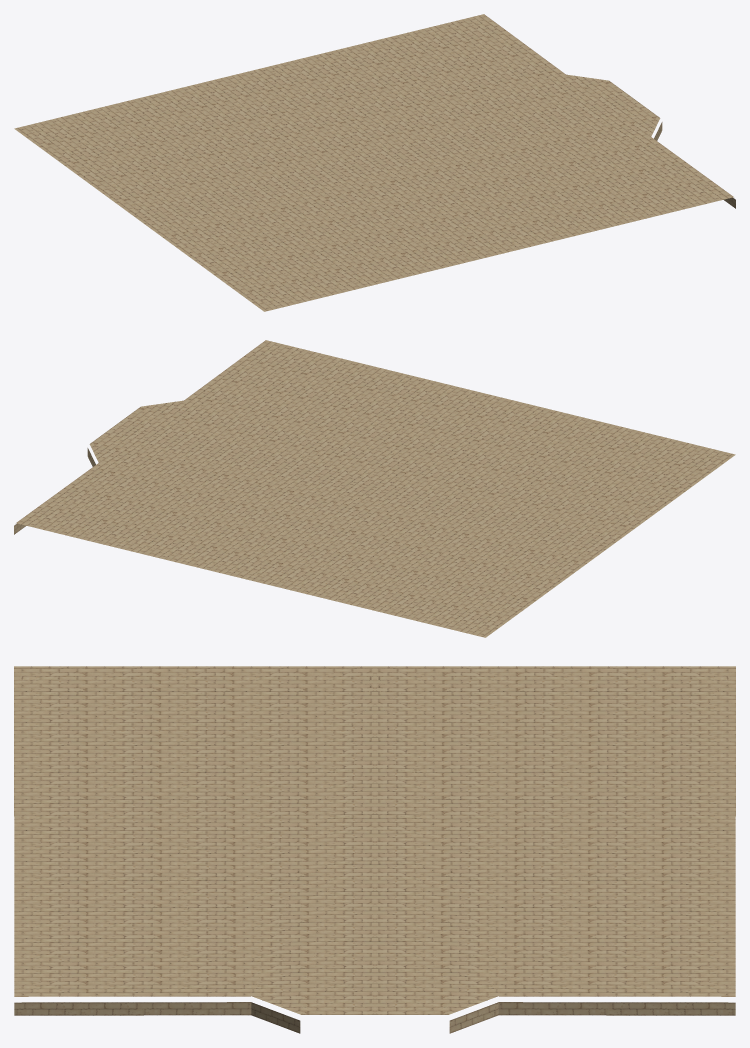
The model's file is Ground22_Build_LostTemple_002.FBX.
The picture shows the model from 3 angles, top to bottom: view 1: azimuth 30°, elevation 25°; view 2: azimuth 150°, elevation 25°; view 3: azimuth 270°, elevation 25°; orthographic projection. The views are drawn at different scales.
Parts seen in each view (by area): view 1: Ground22_Build_LostTemple_002; view 2: Ground22_Build_LostTemple_002; view 3: Ground22_Build_LostTemple_002.
Part boxes in pixels (x1,y1,x2,y2): Ground22_Build_LostTemple_002: (14, 14, 735, 311); Ground22_Build_LostTemple_002: (14, 340, 735, 637); Ground22_Build_LostTemple_002: (14, 666, 735, 1033).
Size of the model in its own units: 2549 by 60.02 by 2223.
1 material, 1 textured.
